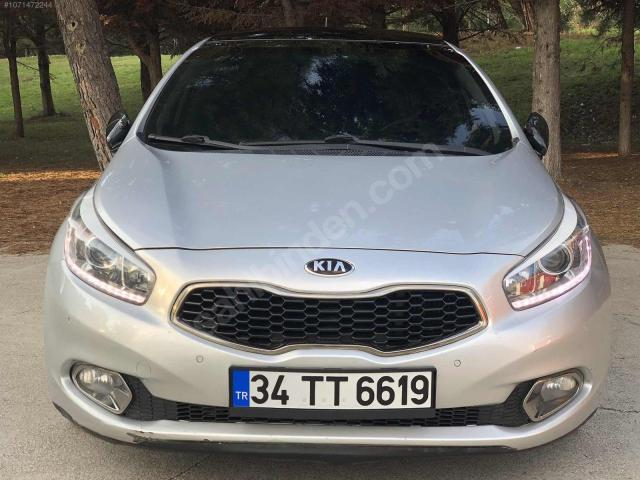plaka: (231, 370, 434, 410)
